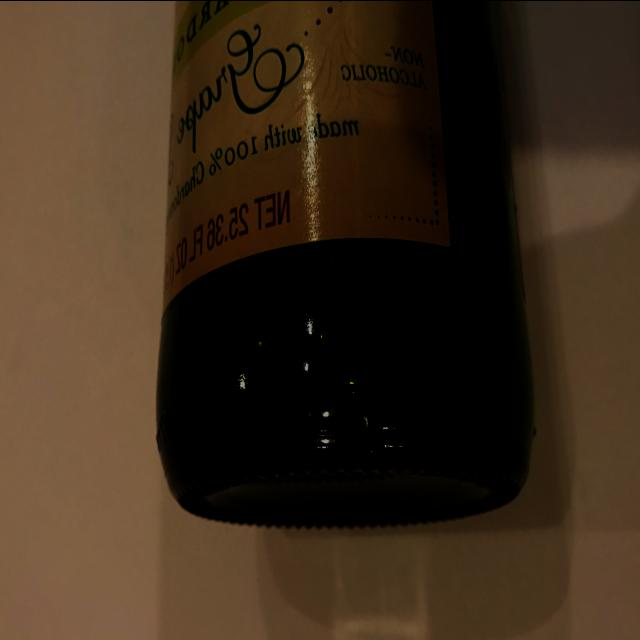Glass: (140, 0, 542, 536)
